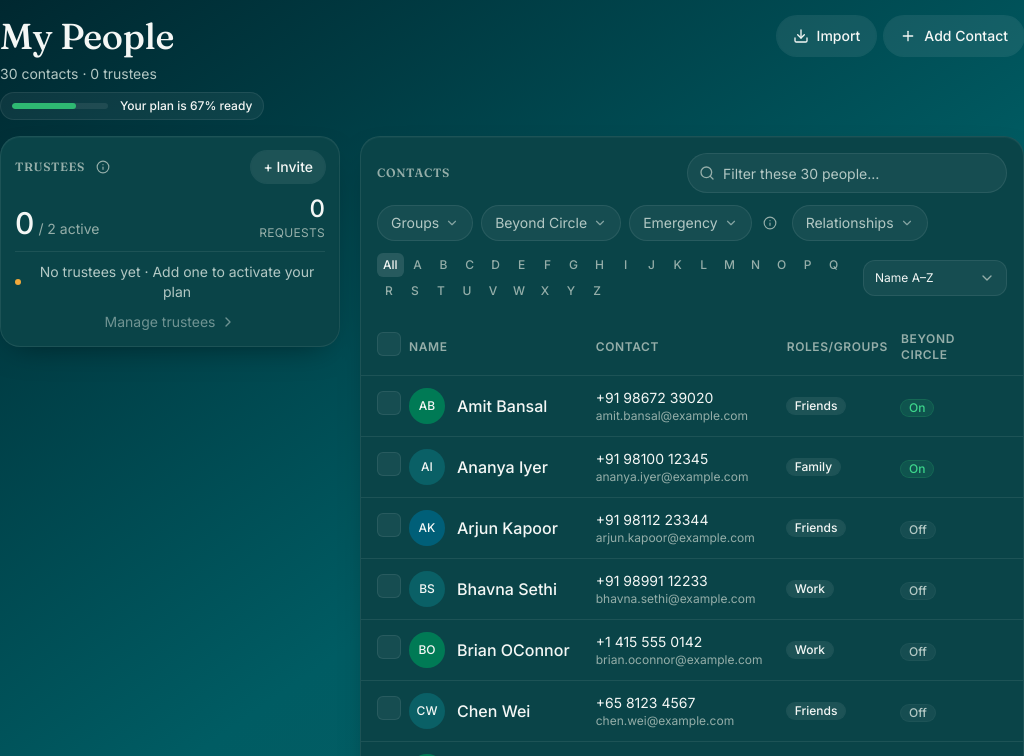
Test: ContactsListPage › opens the Add Contact dialog
What coordinates should you click on to do the following:
click the button "Add Contact"
I would click on:
 (954, 36)
Its box is [884,16,1023,56].
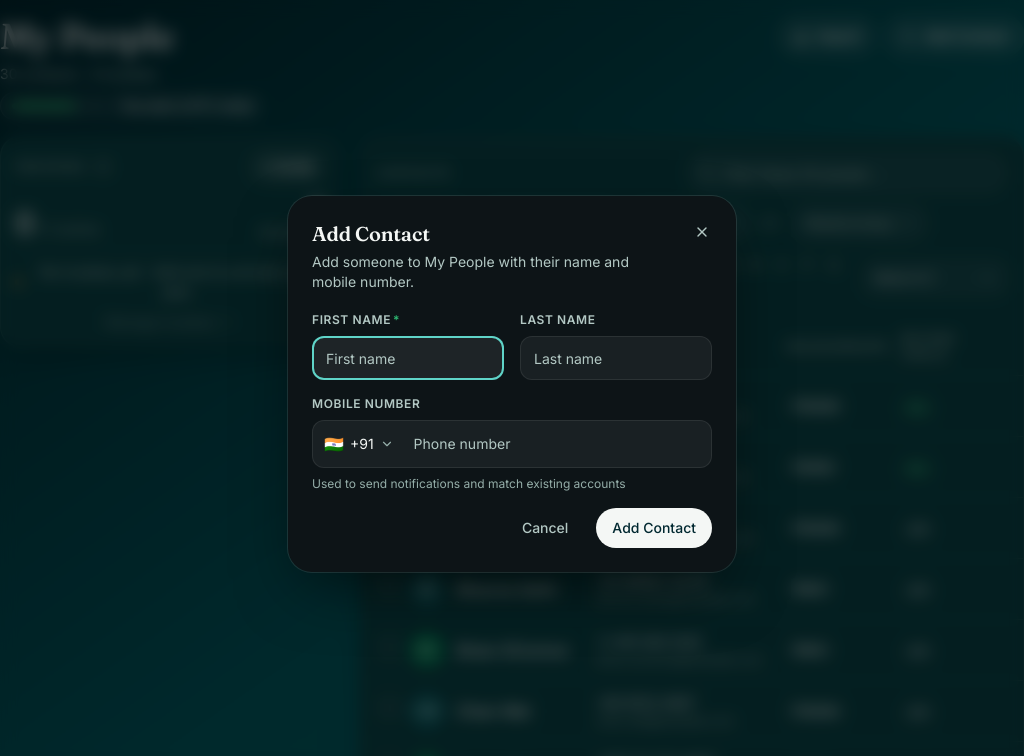
Now the dialog "Add Contact" is shown, box [288,196,736,572]
